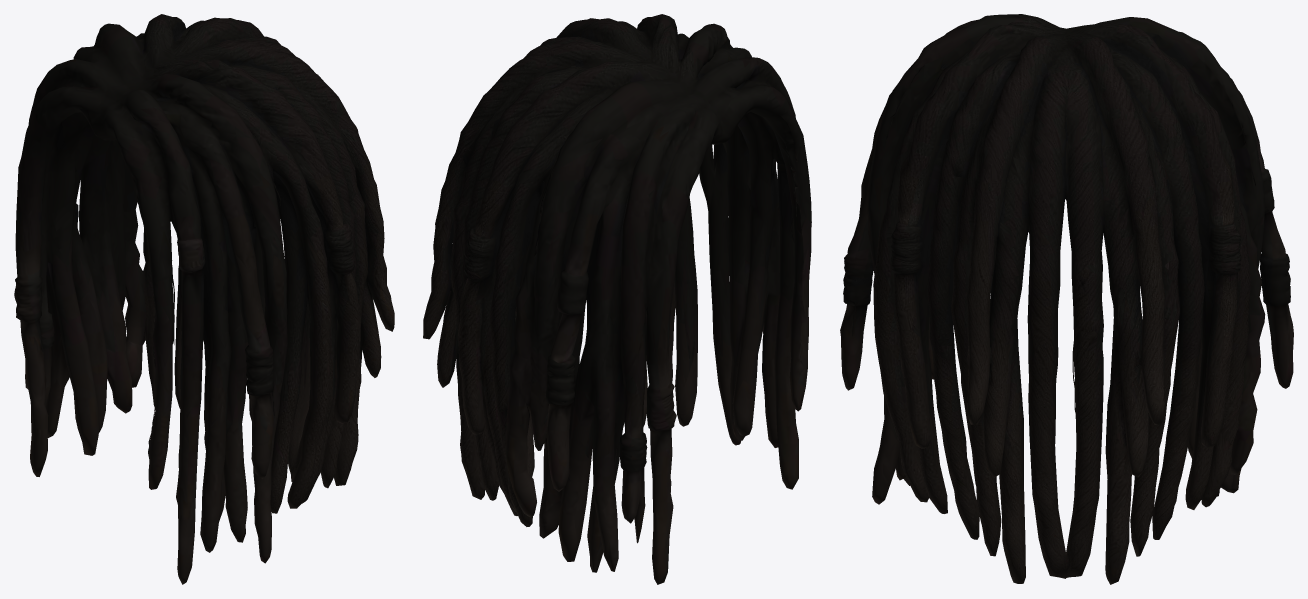
Rendered from dread_preto.glb.
3 views of the same model, side by side, from view 1: azimuth 30°, elevation 25°; view 2: azimuth 150°, elevation 25°; view 3: azimuth 270°, elevation 25° (orthographic). The views are drawn at different scales.
Parts seen in each view (by area): view 1: Prop_dread; view 2: Prop_dread; view 3: Prop_dread.
Boxes of the visible parts, left/top/right/bottom form: Prop_dread: left=14, top=14, right=394, bottom=584; Prop_dread: left=423, top=14, right=811, bottom=584; Prop_dread: left=840, top=14, right=1293, bottom=584.
Size of the model in its own units: 0.2139 by 0.36 by 0.2945.
18 materials, 18 textured.
